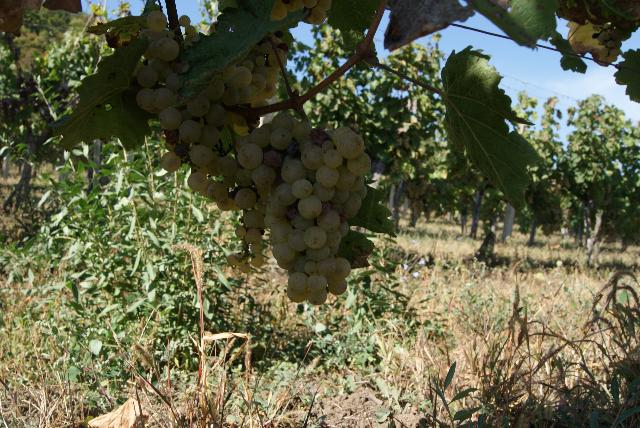grapes: (236, 114, 371, 305), (160, 55, 279, 191), (218, 154, 265, 274), (136, 11, 182, 112)
